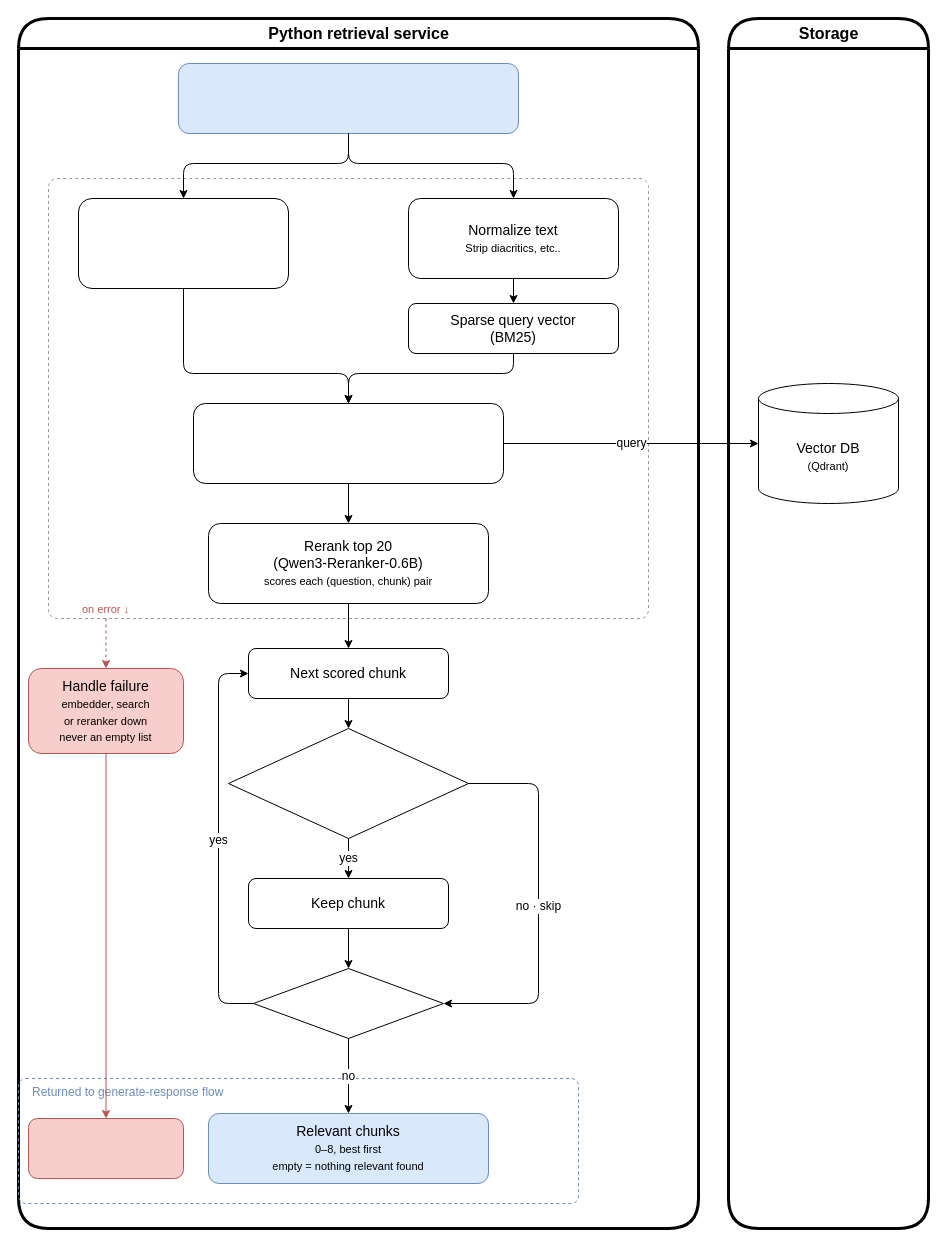
Image size: 947x1247. Some labels were removed from this diagram. The shapes that lost their labels are listed below. From the top down, each one's centre as x and y in pixels, then its label:
At (348,98): "Query from generate-response flow course, user, question".
At (183,243): "Dense query vectors (Qwen3-Embedding-4B)".
At (348,443): "Hybrid search dense + sparse, combined with RRF".
At (348,783): "Score ≥ threshold?".
At (348,1003): "More chunks?".
At (106,1148): "Error failed stage".
